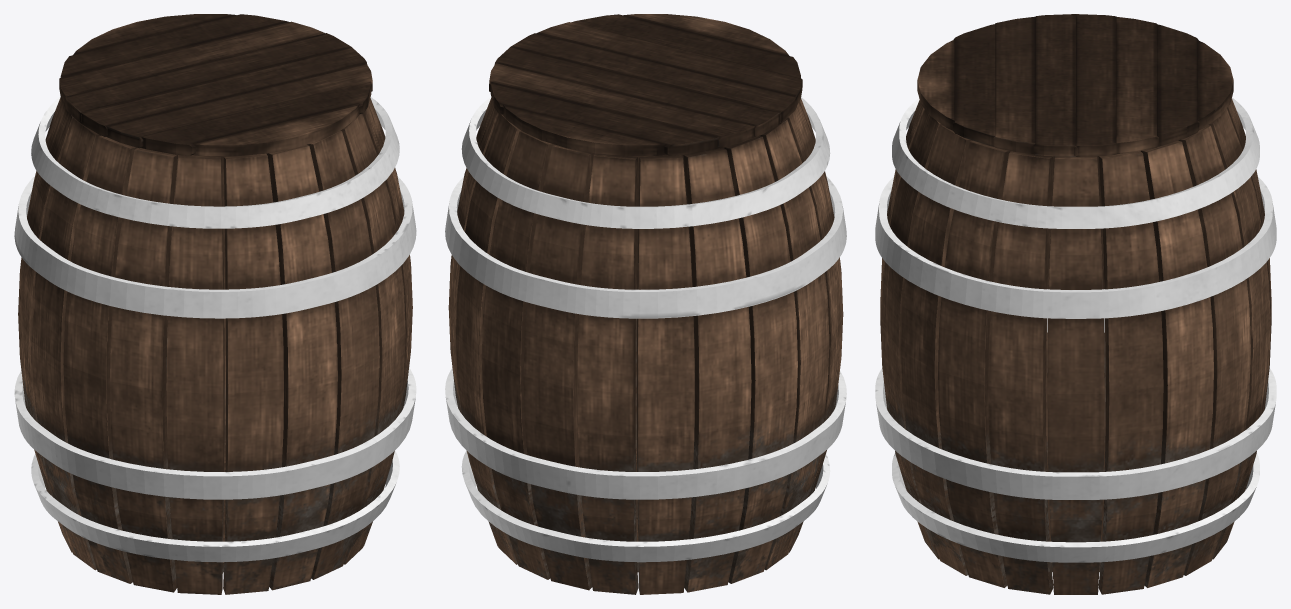
File: barrel.fbx
3 views of the same model, side by side, from view 1: azimuth 30°, elevation 25°; view 2: azimuth 150°, elevation 25°; view 3: azimuth 270°, elevation 25° (orthographic).
Visible parts, largest first — view 1: Cube.024, Cube.009, Cube.008, Cube.007, Cube.010, Cube.006, NurbsCircle.003, Cube.011, NurbsCircle.002, NurbsCircle.001, Cube.005, Cube.012 (+3 smaller); view 2: Cube.024, Cube.021, Cube.022, Cube.023, Cube.019, Cube.004, NurbsCircle.003, Cube.020, NurbsCircle.002, NurbsCircle.001, Cube.005, Cube.018 (+3 smaller); view 3: Cube.024, Cube.016, Cube.014, Cube.015, Cube.017, Cube.013, NurbsCircle.003, NurbsCircle.002, Cube.018, Cube.012, NurbsCircle.001, NurbsCircle (+4 smaller).
Part boxes in pixels (x1=…): Cube.024: x1=59, y1=14, x2=372, y2=156; Cube.009: x1=223, y1=153, x2=283, y2=594; Cube.008: x1=166, y1=155, x2=224, y2=594; Cube.007: x1=110, y1=148, x2=177, y2=592; Cube.010: x1=267, y1=145, x2=337, y2=590; Cube.006: x1=63, y1=135, x2=137, y2=583; NurbsCircle.003: x1=14, y1=176, x2=416, y2=318; Cube.011: x1=307, y1=131, x2=379, y2=579; NurbsCircle.002: x1=14, y1=368, x2=416, y2=499; NurbsCircle.001: x1=31, y1=96, x2=399, y2=228; Cube.005: x1=32, y1=119, x2=101, y2=570; Cube.012: x1=341, y1=113, x2=405, y2=564; Cube.024: x1=489, y1=14, x2=802, y2=156; Cube.021: x1=577, y1=153, x2=638, y2=594; Cube.022: x1=637, y1=155, x2=694, y2=594; Cube.023: x1=683, y1=148, x2=751, y2=592; Cube.019: x1=523, y1=144, x2=594, y2=590; Cube.004: x1=724, y1=136, x2=797, y2=583; NurbsCircle.003: x1=445, y1=176, x2=846, y2=318; Cube.020: x1=481, y1=131, x2=554, y2=579; NurbsCircle.002: x1=445, y1=368, x2=846, y2=499; NurbsCircle.001: x1=461, y1=97, x2=830, y2=228; Cube.005: x1=759, y1=119, x2=829, y2=570; Cube.018: x1=456, y1=114, x2=521, y2=564; Cube.024: x1=917, y1=14, x2=1233, y2=156; Cube.016: x1=1098, y1=151, x2=1163, y2=594; Cube.014: x1=988, y1=151, x2=1053, y2=594; Cube.015: x1=1047, y1=156, x2=1104, y2=594; Cube.017: x1=1141, y1=140, x2=1213, y2=587; Cube.013: x1=938, y1=140, x2=1010, y2=587; NurbsCircle.003: x1=875, y1=177, x2=1276, y2=318; NurbsCircle.002: x1=875, y1=318, x2=1276, y2=499; Cube.018: x1=1178, y1=125, x2=1250, y2=575; Cube.012: x1=901, y1=125, x2=972, y2=575; NurbsCircle.001: x1=892, y1=97, x2=1259, y2=228; NurbsCircle: x1=892, y1=453, x2=1259, y2=562.
Bounding box in the file's own units: 225 × 279 × 225.
